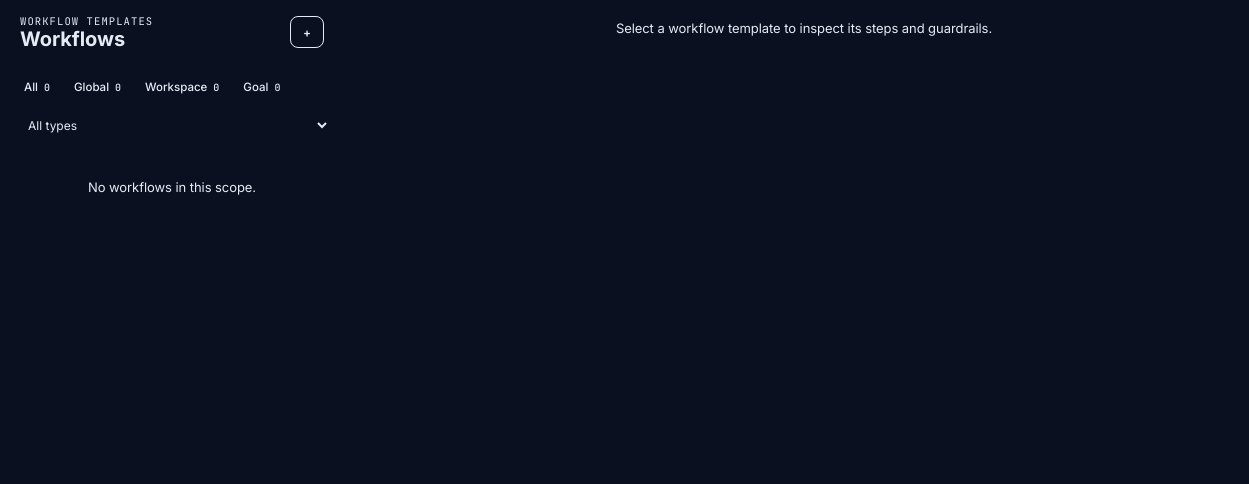
Test: WorkflowsPage › + creates a local draft; Discard removes it
Expected: the text "No workflows in this scope." is shown, [88,179,256,195]
Step 1. Click the button titled "New workflow" → click(307, 32), box [290,16,324,48]
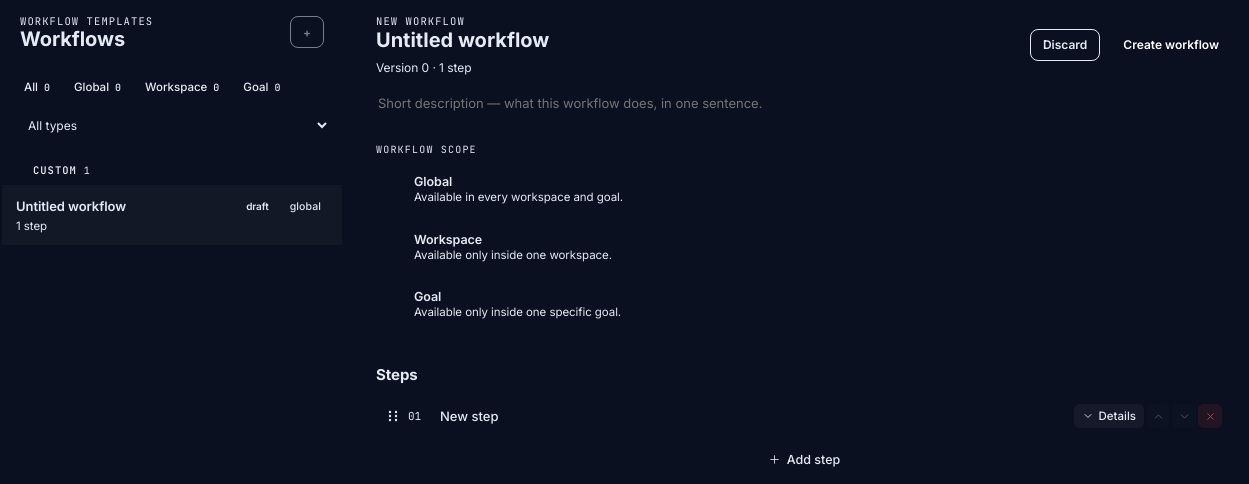
Expected: the text "draft" is shown, [246,200,269,212]
Expected: the button "Create workflow" is shown, [1110,28,1232,60]
Step 2. Click the button "Discard" → click(1065, 44), box [1030,28,1100,60]
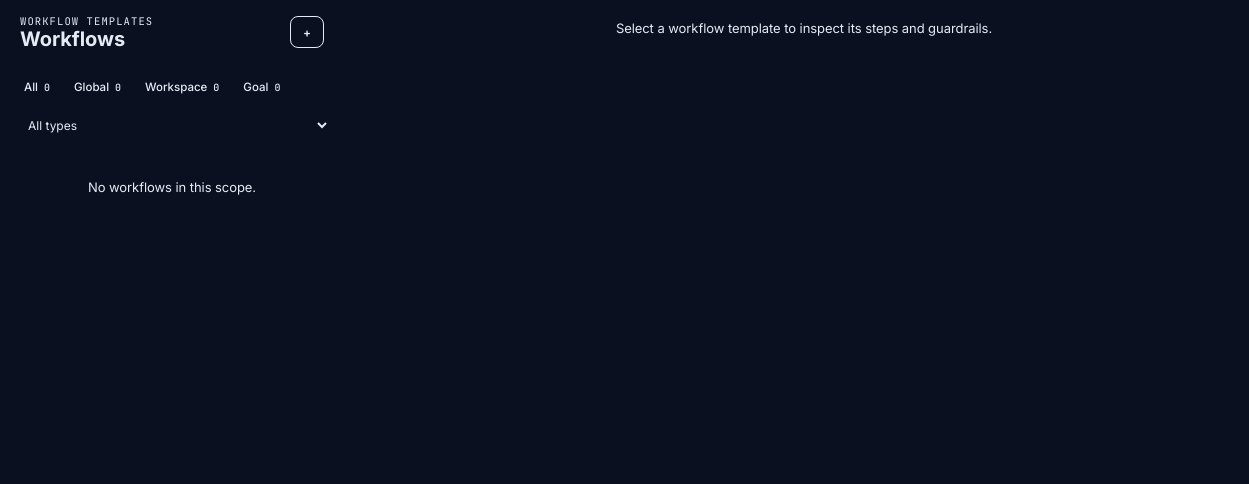
Expected: the text "draft" is gone
Expected: the text "No workflows in this scope." is shown, [88,179,256,195]
